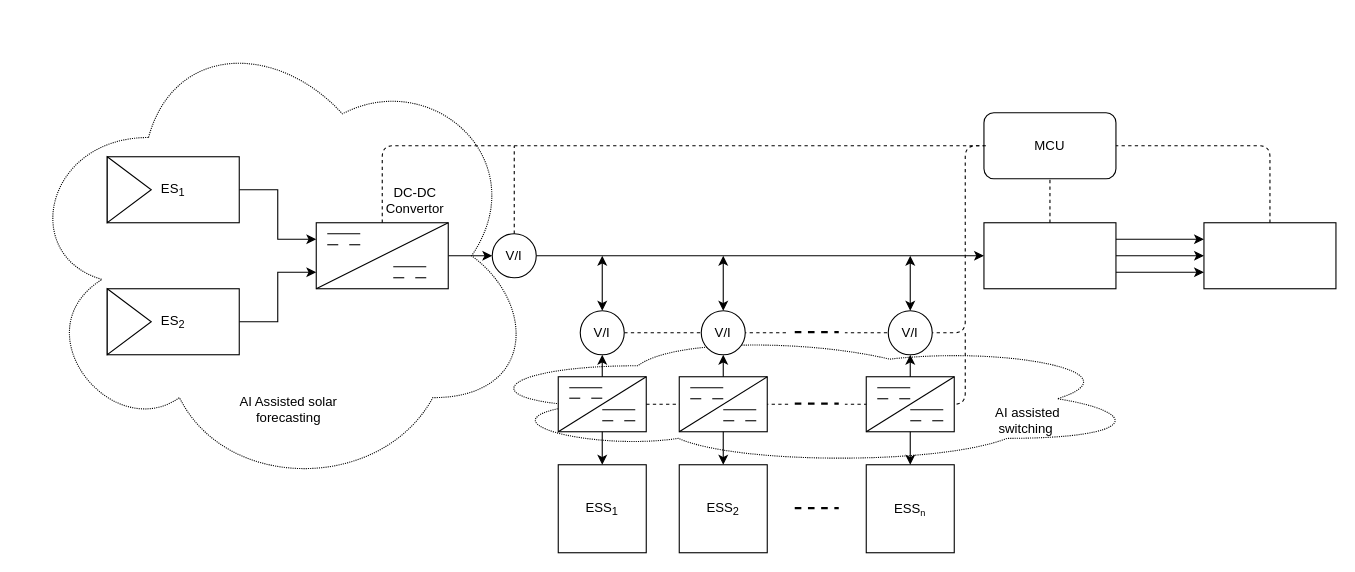
The diagram is 1355 pixels wide and 572 high, and some of its shapes have lost their labels. Each missing label, with the centre of its shape:
LOAD: (1269,255)
PDU: (1049,255)
